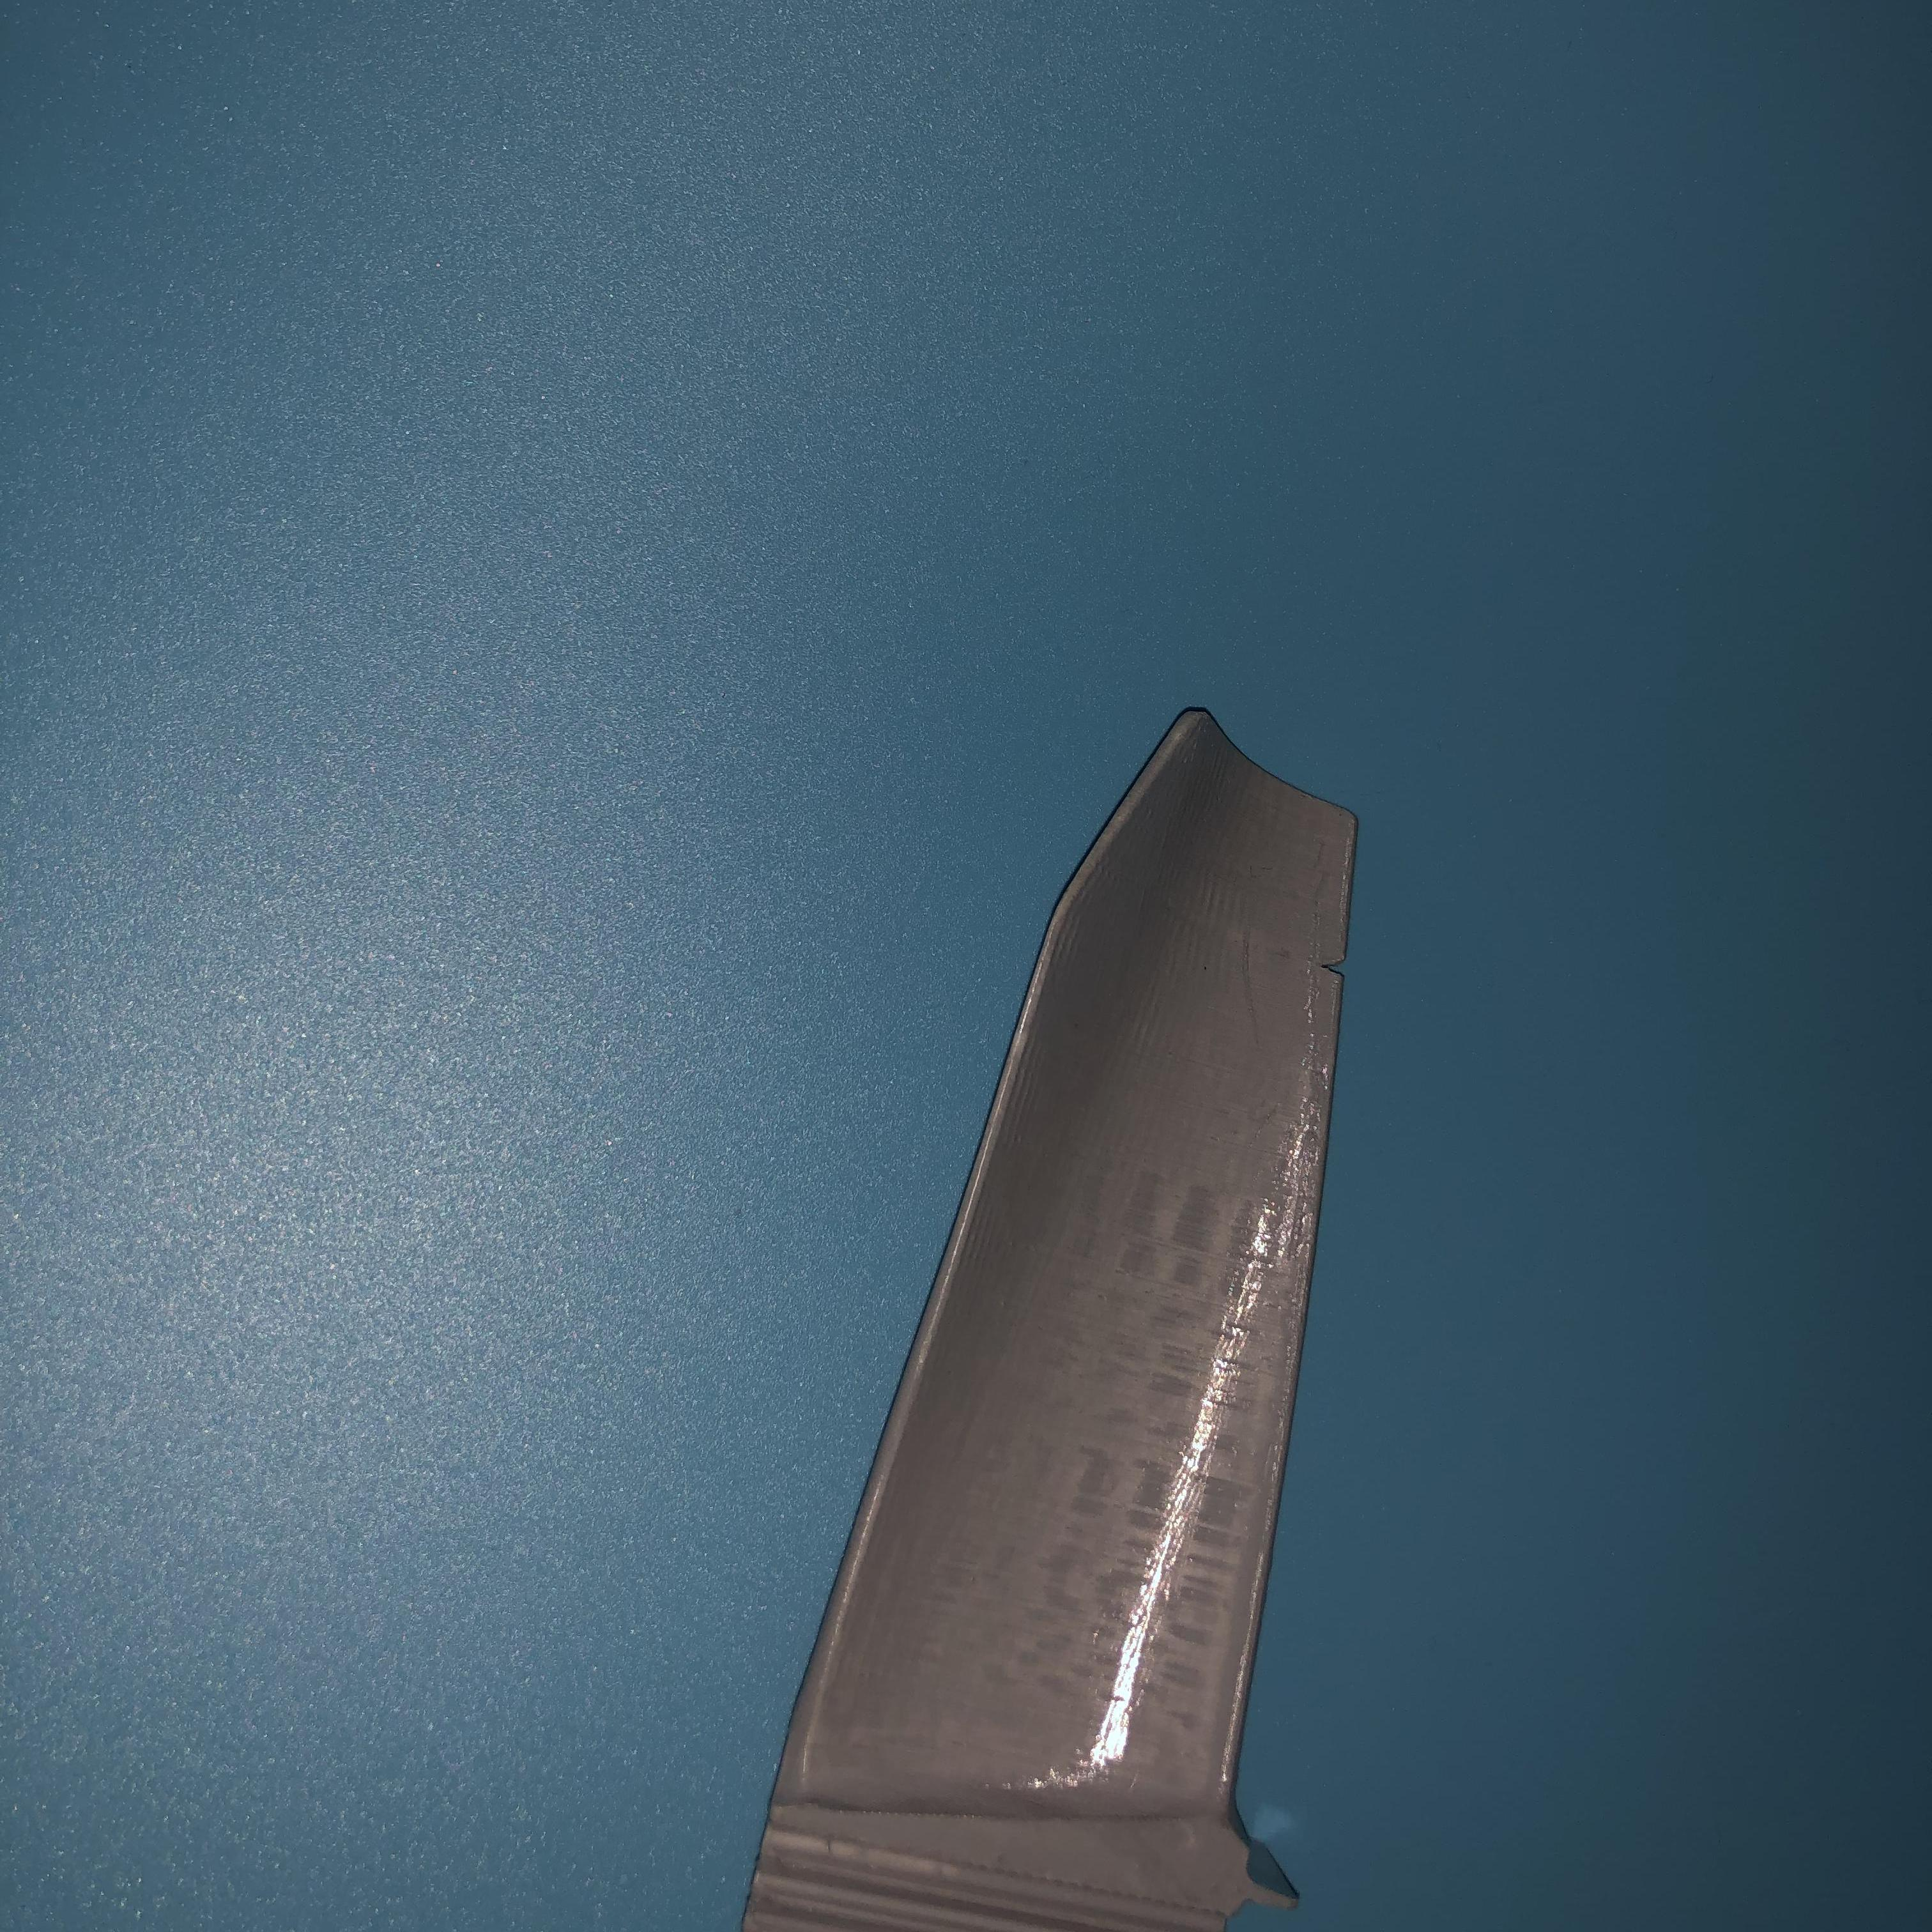groove: (1318, 939, 1346, 984)
